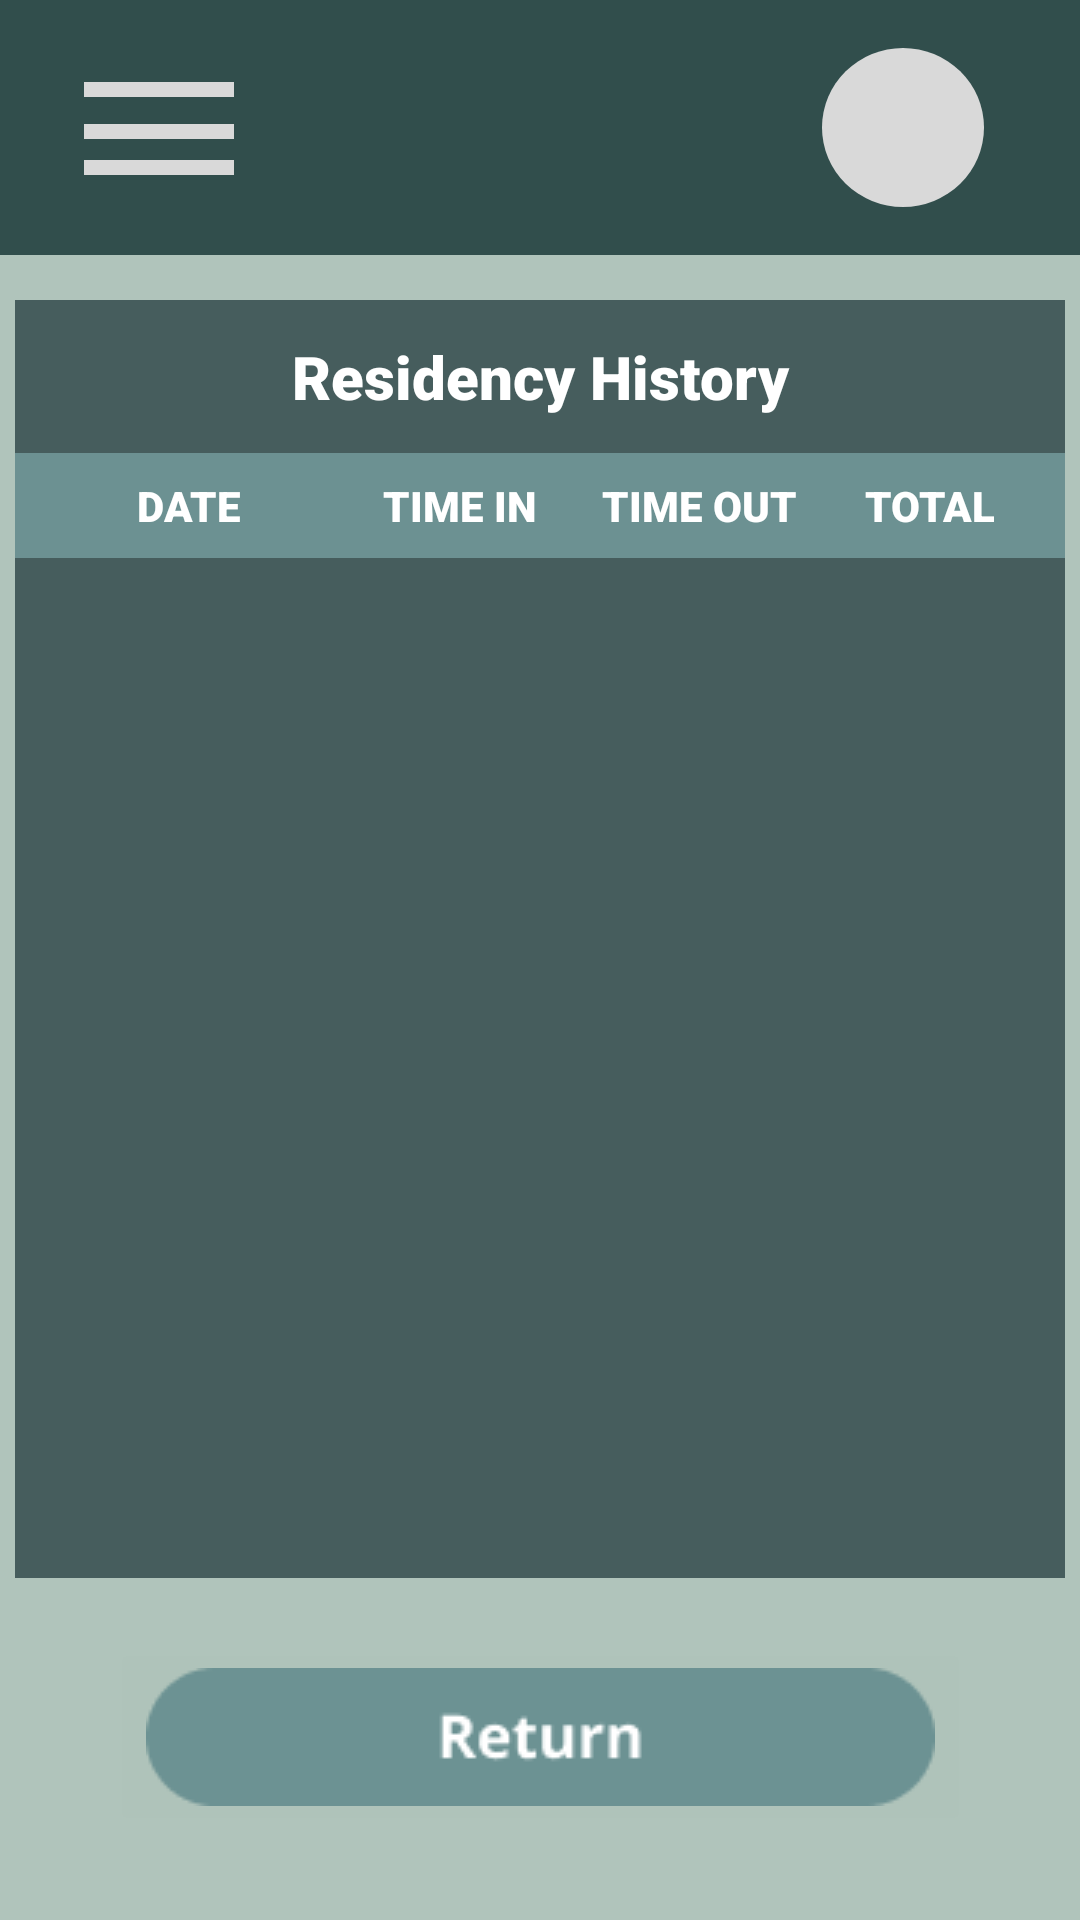

Where icons sit on this 1080px x 1920px app screen, as (x1, y1, x2, y2):
menubtn: (84, 82, 234, 175)
